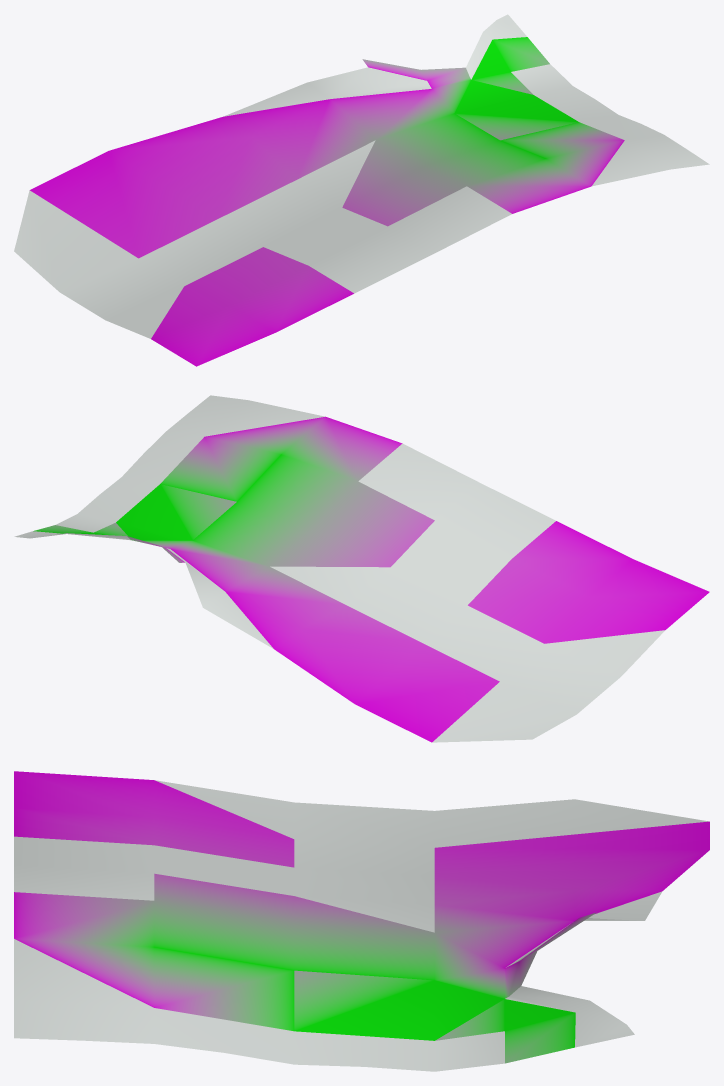
3 views of the same model, one above another, from view 1: azimuth 30°, elevation 25°; view 2: azimuth 150°, elevation 25°; view 3: azimuth 270°, elevation 25° (orthographic). The views are drawn at different scales.
Visible parts, largest first — view 1: G:\FFXIV-MapTools\exports\f1f1\bg\ffxiv\fst_f1\fld\f1f1\bgpl (×3); view 2: G:\FFXIV-MapTools\exports\f1f1\bg\ffxiv\fst_f1\fld\f1f1\bgpl (×3); view 3: G:\FFXIV-MapTools\exports\f1f1\bg\ffxiv\fst_f1\fld\f1f1\bgpl (×3).
Part boxes in pixels (left/top/right/bottom): G:\FFXIV-MapTools\exports\f1f1\bg\ffxiv\fst_f1\fld\f1f1\bgpl (×3): left=14, top=14, right=709, bottom=366; G:\FFXIV-MapTools\exports\f1f1\bg\ffxiv\fst_f1\fld\f1f1\bgpl (×3): left=14, top=395, right=709, bottom=742; G:\FFXIV-MapTools\exports\f1f1\bg\ffxiv\fst_f1\fld\f1f1\bgpl (×3): left=14, top=771, right=709, bottom=1071.
Bounding box in the file's own units: 104 × 21.22 × 79.41.
